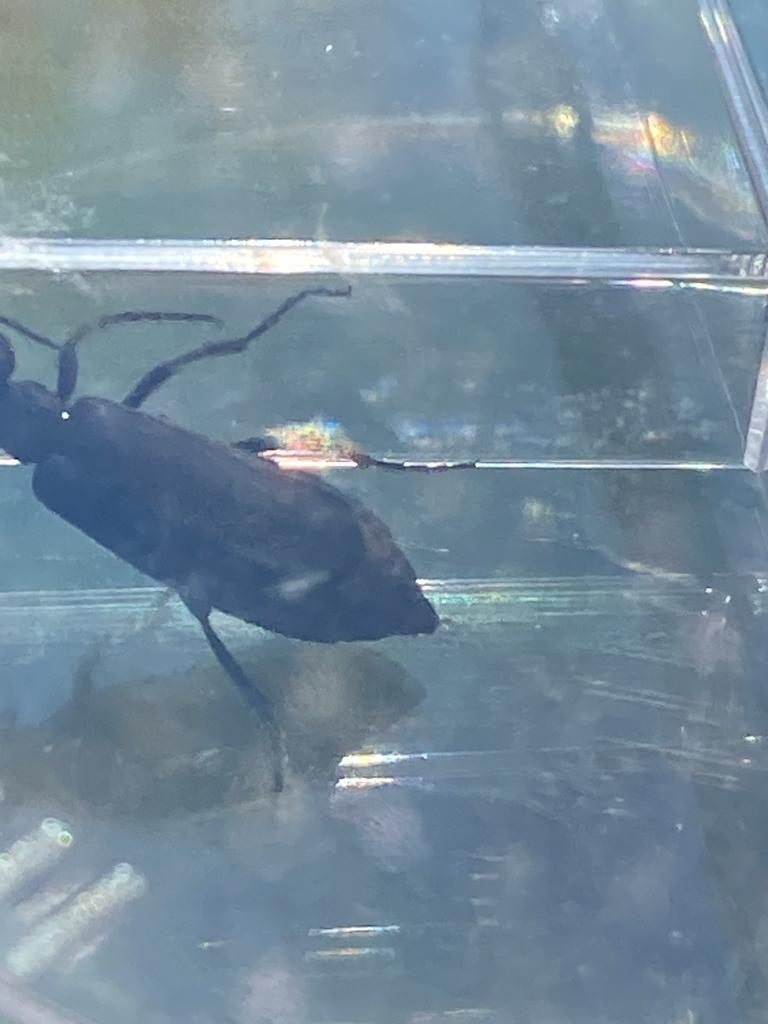blister_beetle: (0, 237, 543, 893)
